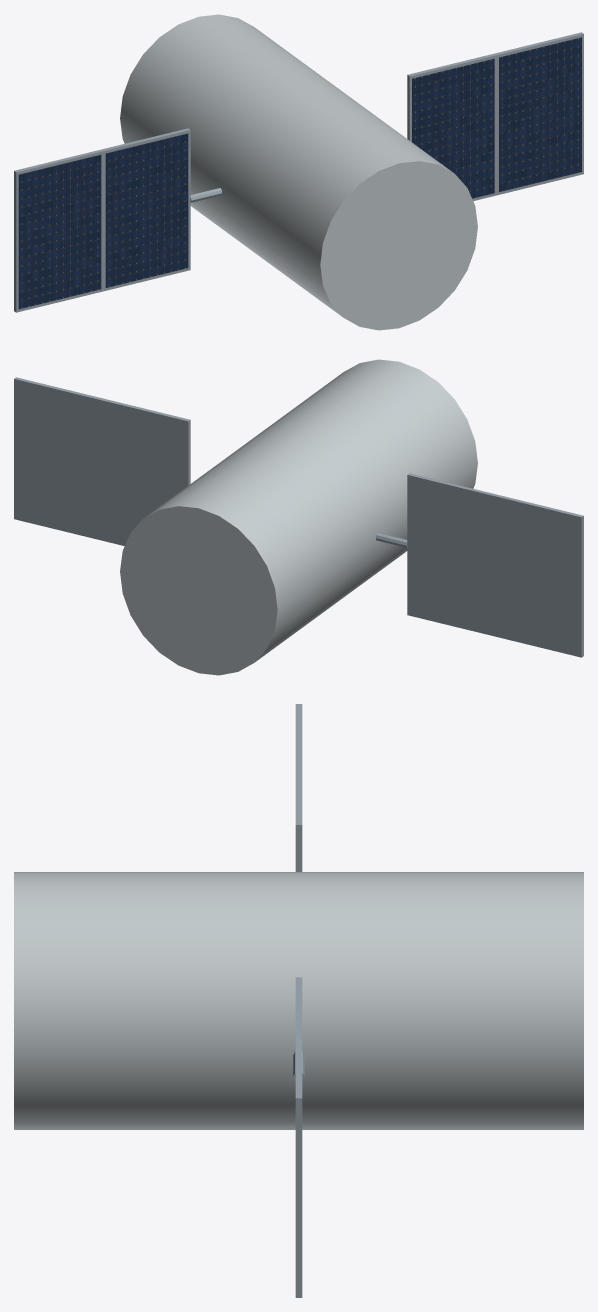
File: ref-ekran-17365.glb
3 renders of one model, top to bottom at view 1: azimuth 30°, elevation 25°; view 2: azimuth 150°, elevation 25°; view 3: azimuth 270°, elevation 25°, orthographic. The views are drawn at different scales.
Visible parts, largest first — view 1: Spacecraft body, Photovoltaic laminates (×4), Array frame (×4); view 2: Spacecraft body, Array frame (×4); view 3: Spacecraft body, Array frame (×2).
Boxes of the visible parts, x1,y1,x2,y2 form: Spacecraft body: (120, 14, 477, 330); Photovoltaic laminates (×4): (18, 37, 581, 309); Array frame (×4): (14, 32, 583, 312); Spacecraft body: (120, 359, 477, 675); Array frame (×4): (14, 377, 583, 657); Spacecraft body: (14, 872, 583, 1129); Array frame (×2): (295, 764, 302, 1297).
Bounding box in the file's own units: 9 × 2.5 × 5.5.
Materials: 3 (1 with a texture image).
